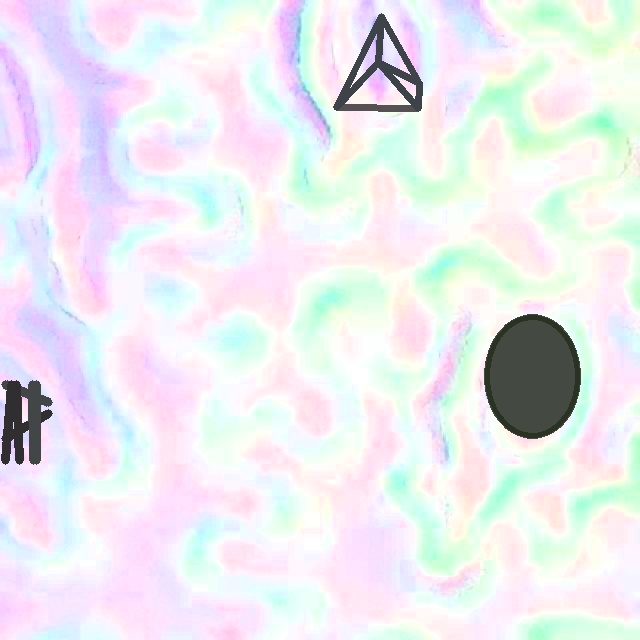open: (483, 314, 580, 438), (333, 13, 422, 111), (1, 380, 52, 464)
